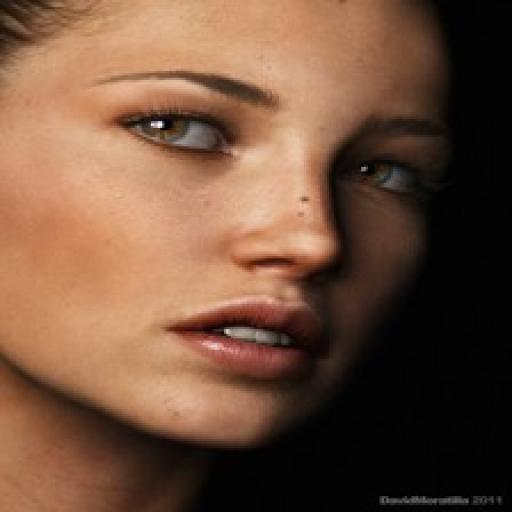human: (0, 0, 479, 512)
